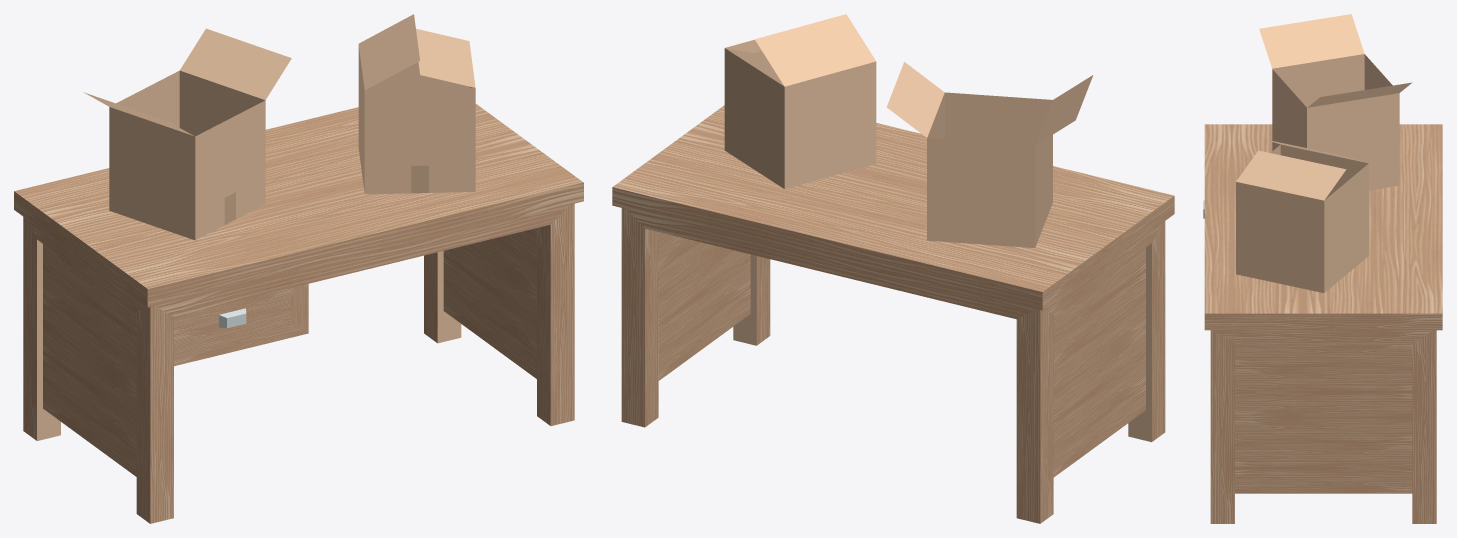
File: tavolo-texture.glb
3 views of the same model, side by side, from view 1: azimuth 30°, elevation 25°; view 2: azimuth 150°, elevation 25°; view 3: azimuth 270°, elevation 25° (orthographic). The views are drawn at different scales.
Visible parts, largest first — view 1: desk, cardboardBoxOpen(Clone), cardboardBoxClosed(Clone), drawer; view 2: desk, cardboardBoxClosed(Clone), cardboardBoxOpen(Clone); view 3: desk, cardboardBoxClosed(Clone), cardboardBoxOpen(Clone).
Part boxes in pixels (x1,y1,x2,y2): desk: [14, 104, 583, 523]; cardboardBoxOpen(Clone): [83, 28, 291, 240]; cardboardBoxClosed(Clone): [358, 14, 475, 194]; drawer: [174, 288, 290, 347]; desk: [612, 105, 1174, 523]; cardboardBoxClosed(Clone): [724, 14, 876, 189]; cardboardBoxOpen(Clone): [887, 62, 1093, 247]; desk: [1204, 124, 1442, 523]; cardboardBoxClosed(Clone): [1236, 138, 1368, 292]; cardboardBoxOpen(Clone): [1259, 14, 1412, 190].
Bounding box in the file's own units: 0.7345 × 0.5974 × 0.3923.
7 materials, 1 textured.
